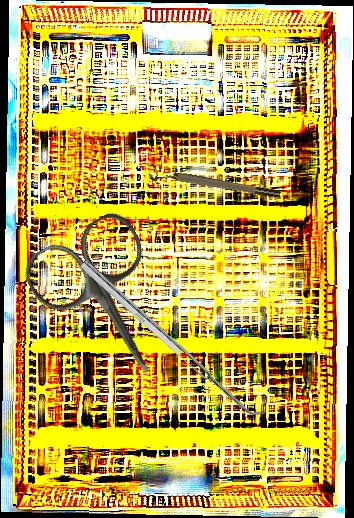Fixation Ring: (147, 163, 282, 206)
Iris Scissors: (17, 206, 198, 402)
Spatula Surgical: (79, 252, 268, 425)
